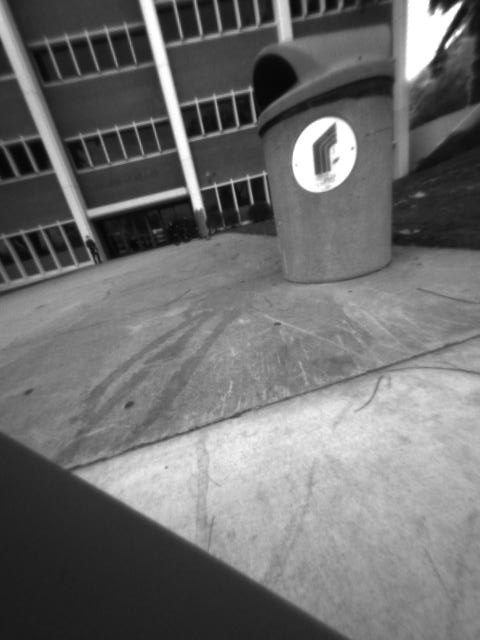trashcan: (250, 22, 404, 282)
